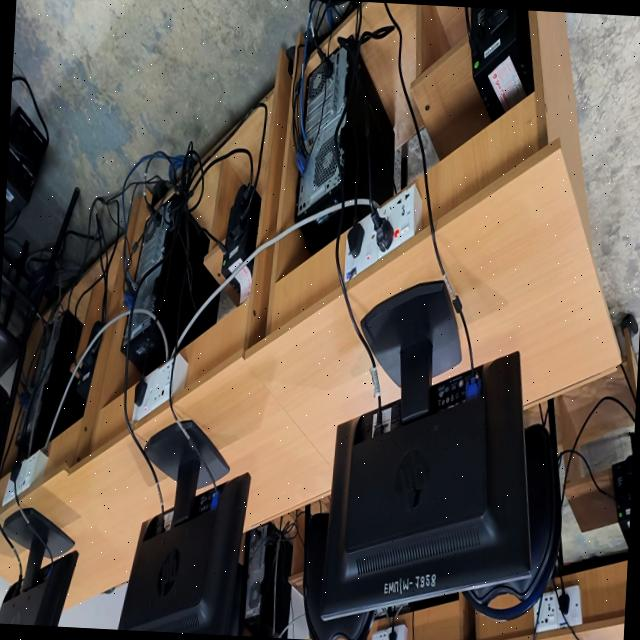Chair: (0, 188, 80, 474), (463, 399, 561, 621), (303, 507, 374, 640)
Cpu: (295, 41, 395, 254), (122, 215, 220, 375), (16, 311, 82, 455), (245, 523, 292, 639), (51, 379, 86, 439)
Monitor: (321, 282, 530, 620), (118, 421, 250, 636), (0, 508, 78, 627)
